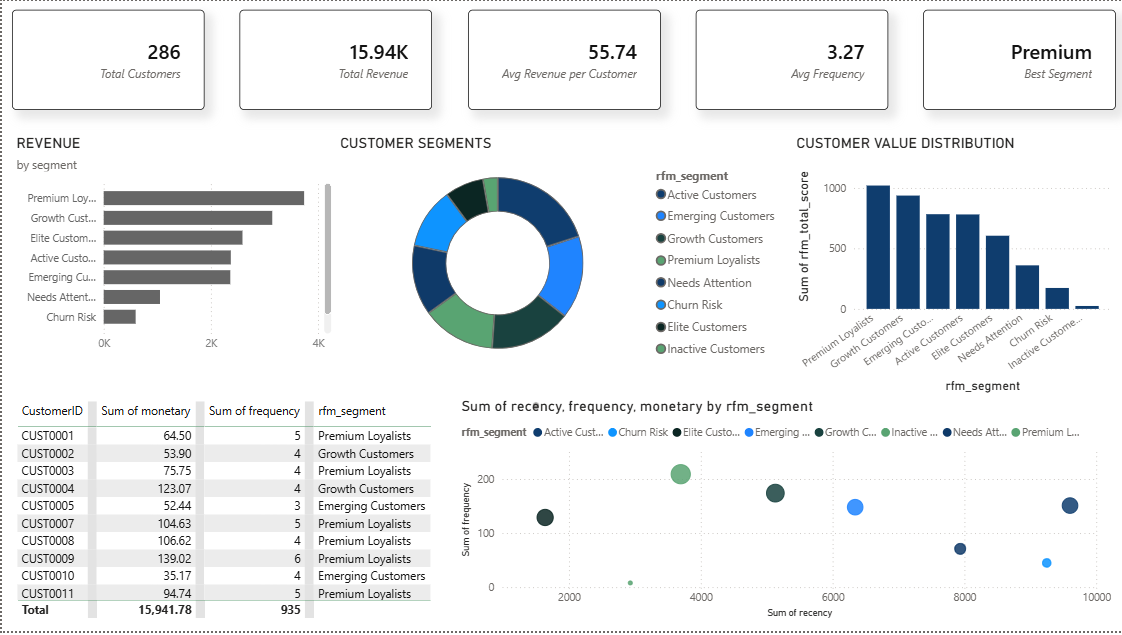

What the dashboard file says about the page in this screenshot:
{"tool":"powerbi","page":{"name":"Page 2","canvas":[1280,720],"ordinal":1},"visuals":[{"type":"cardVisual","title":"Total Customers","fields":{"Data":["Count(Query1.CustomerID)"]},"box":[11.4,10,220,114.3],"z":0},{"type":"cardVisual","title":"Total Customers","fields":{"Data":["Sum(Query1.monetary)"]},"box":[271.8,10,220,114.3],"z":1000},{"type":"cardVisual","title":"Total Customers","fields":{"Data":["Query1.Avg Revenue"]},"box":[532.1,10,220,114.3],"z":2000},{"type":"cardVisual","title":"Total Customers","fields":{"Data":["Avg(Query1.frequency)"]},"box":[792.5,10,220,114.3],"z":3000},{"type":"cardVisual","title":"Total Customers","fields":{"Data":["Query1.Best Segment"]},"box":[1052.9,10,220,114.3],"z":4000},{"type":"donutChart","title":"CUSTOMER SEGMENTS","fields":{"Category":["Query1.rfm_segment"],"Y":["CountNonNull(Query1.CustomerID)"]},"box":[381.4,151.4,515.7,275.7],"z":5000},{"type":"clusteredBarChart","title":"REVENUE","fields":{"Category":["Query1.rfm_segment"],"Y":["Sum(Query1.monetary)"]},"box":[11.4,151.4,370,257.1],"z":5001},{"type":"columnChart","title":"CUSTOMER VALUE DISTRIBUTION","fields":{"Category":["Query1.rfm_segment"],"Y":["Sum(Query1.rfm_total_score)"]},"box":[902.9,151.4,370,301.4],"z":5002},{"type":"tableEx","fields":{"Values":["Query1.CustomerID","Sum(Query1.monetary)","Sum(Query1.frequency)","Query1.rfm_segment"]},"box":[11.4,452.9,608.6,257.1],"z":5003},{"type":"scatterChart","title":"Sum of recency, frequency, monetary by rfm_segment","fields":{"X":["Sum(Query1.recency)"],"Y":["Sum(Query1.frequency)"],"Series":["Query1.rfm_segment"],"Size":["Sum(Query1.monetary)"]},"box":[520,452.9,752.9,257.1],"z":5004}]}

Visuals, with their boxes in screenshot pixels (x1, y1, x2, y2), scaled from the page's 1280x720 canvas onto the 1122x635 screenshot:
"Total Customers" cardVisual: [10,9,203,110]
"Total Customers" cardVisual: [238,9,431,110]
"Total Customers" cardVisual: [466,9,659,110]
"Total Customers" cardVisual: [695,9,888,110]
"Total Customers" cardVisual: [923,9,1116,110]
"CUSTOMER SEGMENTS" donutChart: [334,134,786,377]
"REVENUE" clusteredBarChart: [10,134,334,360]
"CUSTOMER VALUE DISTRIBUTION" columnChart: [791,134,1116,399]
tableEx - Query1.CustomerID x Sum(Query1.monetary): [10,399,543,626]
"Sum of recency, frequency, monetary by rfm_segment" scatterChart: [456,399,1116,626]
